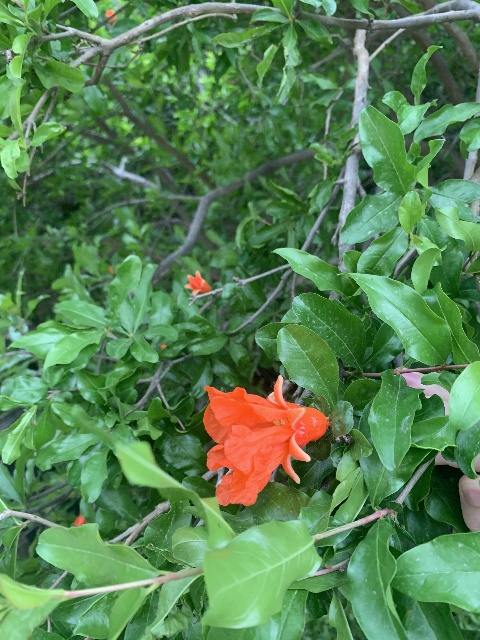flower: (202, 374, 328, 506), (184, 270, 210, 294)
